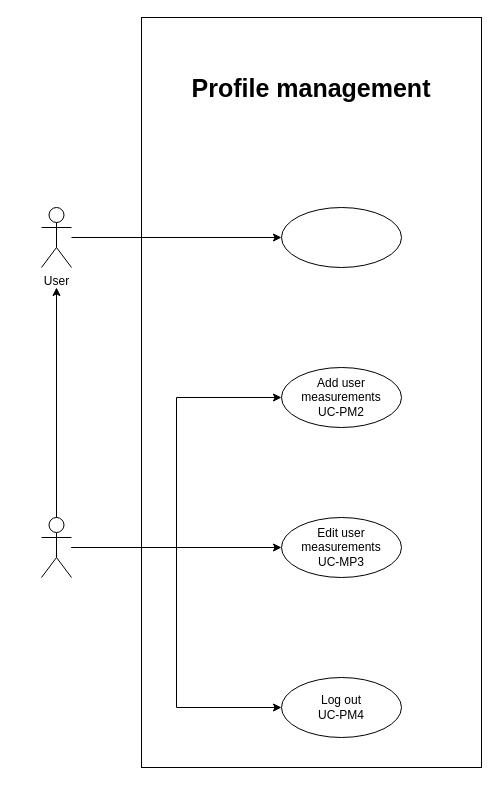
Image size: 499x785. Some labels were removed from this diagram. Here are the shapes that lost their labels. From the top down, the centre of each, then its label:
(x=341, y=237): Log in UC-PM1
(x=56, y=547): Logged in user
